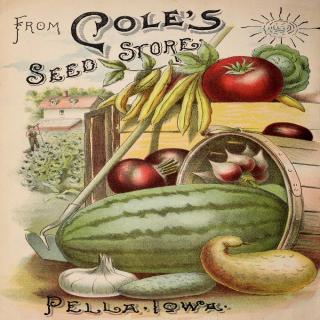Tomato: (206, 54, 289, 100)
Watermelon: (54, 182, 288, 275)
